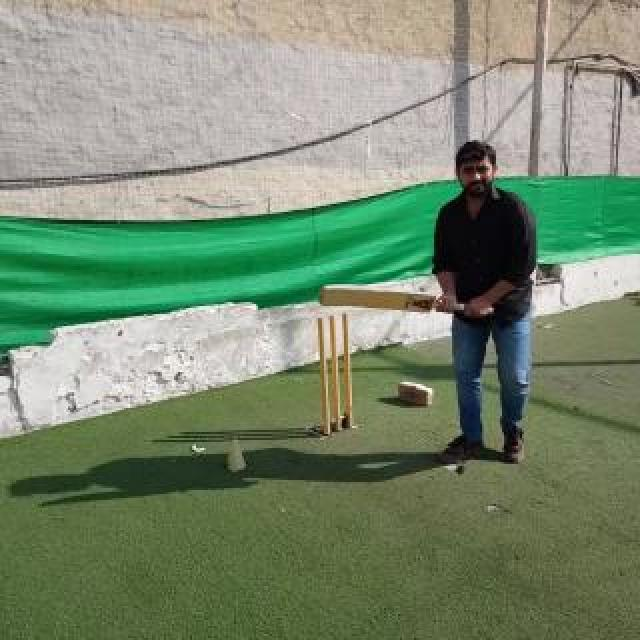bat: (318, 284, 494, 316)
